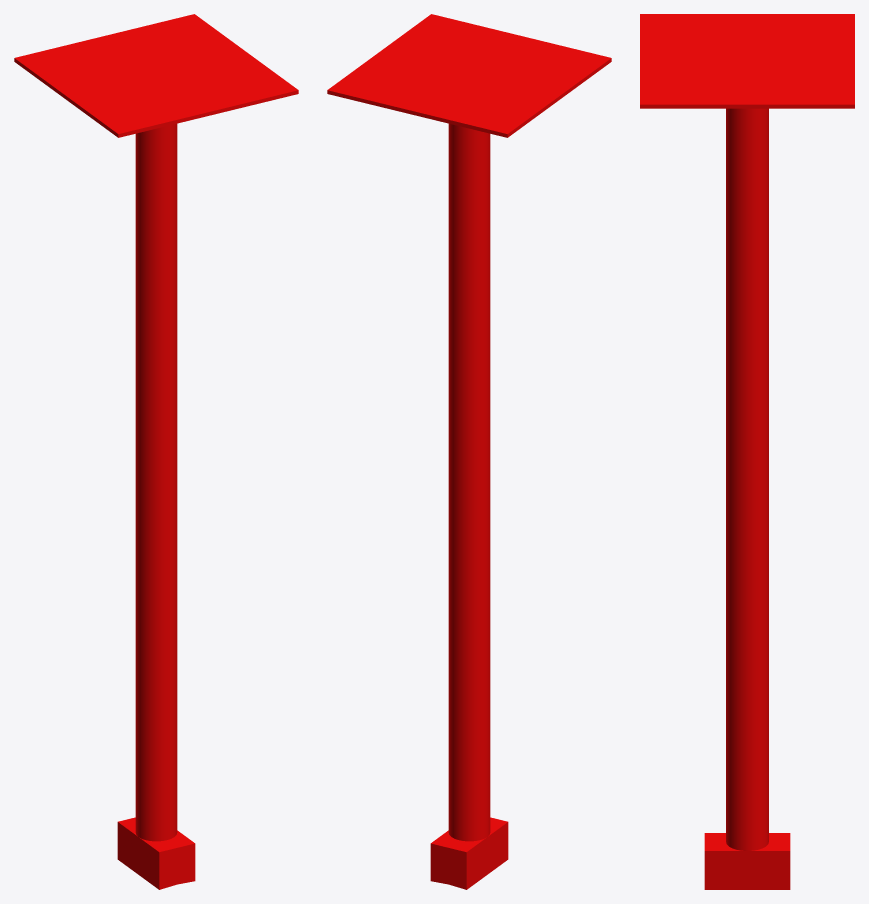
Rendered from YAxis.obj.
The picture shows the model from 3 angles, left to right: view 1: azimuth 30°, elevation 25°; view 2: azimuth 150°, elevation 25°; view 3: azimuth 270°, elevation 25°; orthographic projection. The views are drawn at different scales.
Visible parts, largest first — view 1: |YAxis|Root|color; view 2: |YAxis|Root|color; view 3: |YAxis|Root|color.
Boxes of the visible parts, x1,y1,x2,y2 form: |YAxis|Root|color: (14, 14, 298, 889); |YAxis|Root|color: (327, 14, 611, 889); |YAxis|Root|color: (640, 14, 854, 889).
Bounding box in the file's own units: 0.05 × 0.211 × 0.05.
